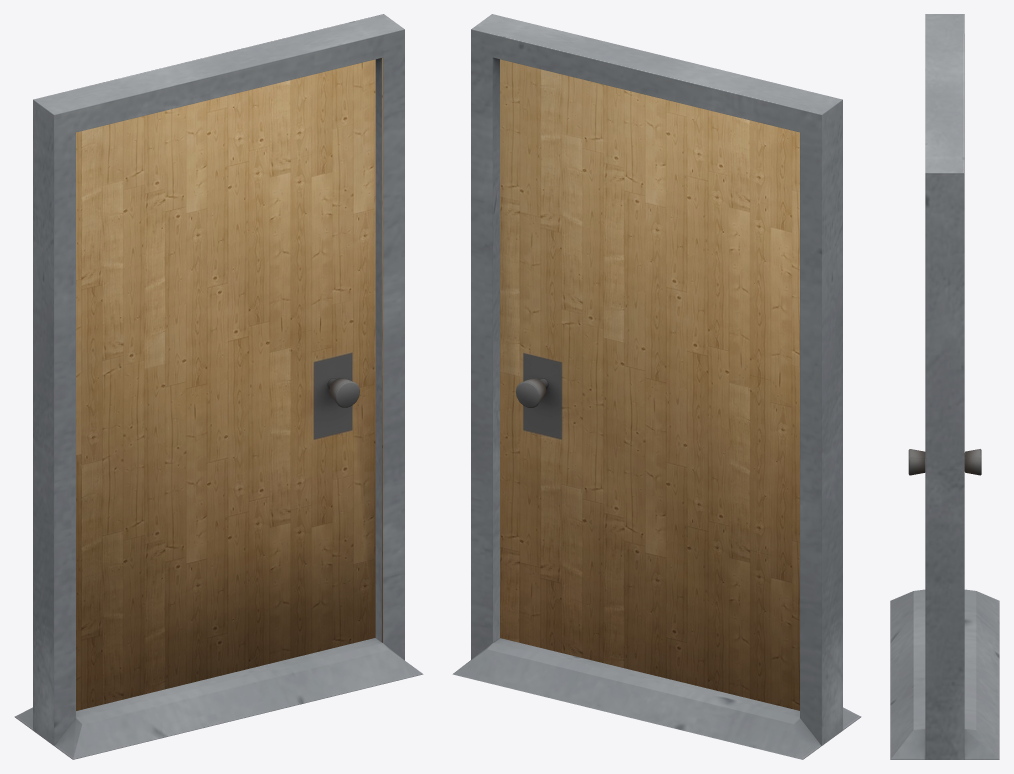
The model's file is portal_door.glb.
3 renders of one model, left to right at view 1: azimuth 30°, elevation 25°; view 2: azimuth 150°, elevation 25°; view 3: azimuth 270°, elevation 25°, orthographic. The views are drawn at different scales.
Parts seen in each view (by area): view 1: Cube.009_Baked.002_0, Doorway_Baked.002_2; view 2: Cube.009_Baked.002_0, Doorway_Baked.002_2; view 3: Doorway_Baked.002_2, Cube.009_Baked.002_0.
Boxes of the visible parts, bbox=[...] form: Cube.009_Baked.002_0: bbox=[76, 59, 375, 710]; Doorway_Baked.002_2: bbox=[14, 14, 423, 759]; Cube.009_Baked.002_0: bbox=[500, 59, 799, 710]; Doorway_Baked.002_2: bbox=[452, 14, 861, 759]; Doorway_Baked.002_2: bbox=[890, 14, 999, 759]; Cube.009_Baked.002_0: bbox=[908, 449, 981, 475].
Bounding box in the file's own units: 1.79 × 3.08 × 0.5216.
2 materials, 2 textured.
